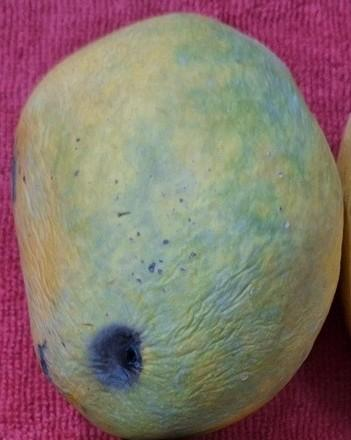mango: (11, 10, 344, 439)
